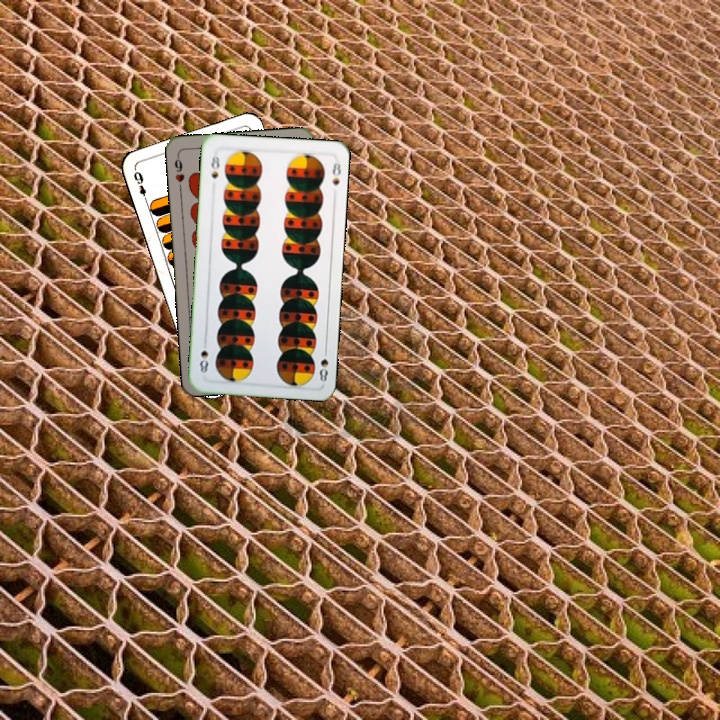E9: (129, 167, 150, 205)
H9: (170, 151, 187, 192)
S8: (315, 344, 331, 384), (206, 151, 222, 181)
